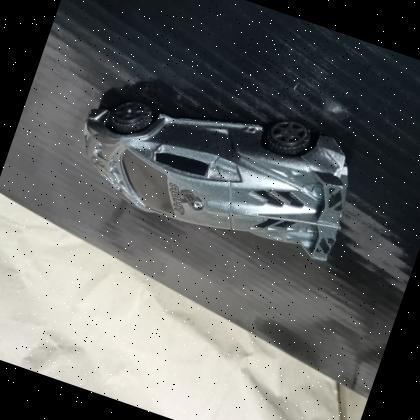Car: (57, 49, 378, 283)
